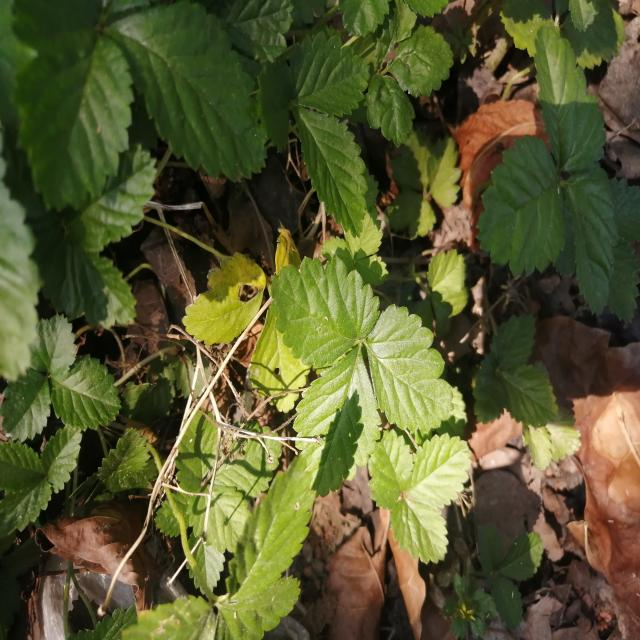Mock_strawberry: (267, 263, 476, 509)
